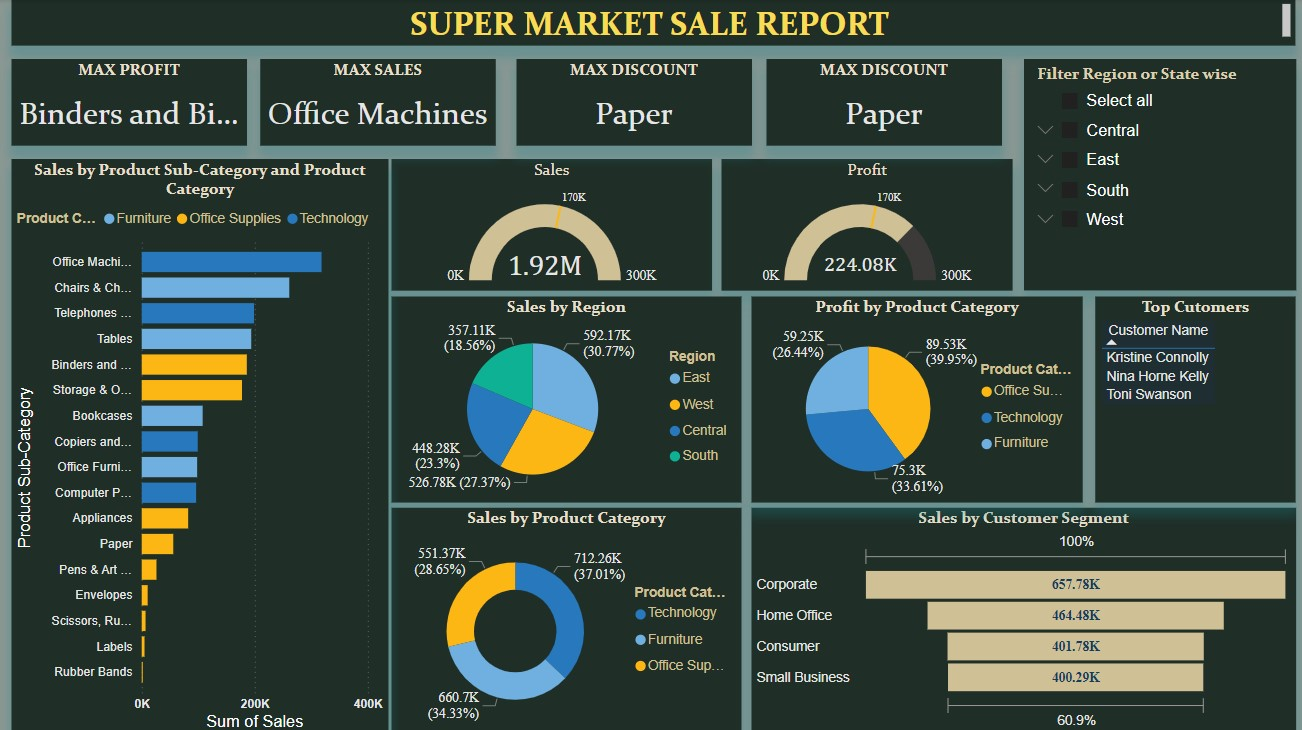

The dashboard page shown, as its layout file describes it:
{"tool":"powerbi","page":{"name":"report","canvas":[1280,720],"ordinal":0},"visuals":[{"type":"textbox","box":[12.2,0,1255.8,45.2],"z":0},{"type":"gauge","title":"Sales","fields":{"Y":["Orders.Sales"]},"box":[383.8,156.2,313.8,128.8],"z":1000},{"type":"gauge","title":"Profit","fields":{"Y":["Orders.Profit"]},"box":[706.2,156.2,285,128.8],"z":2000},{"type":"card","title":"MAX PROFIT","fields":{"Values":["Orders.Product Sub-Category"]},"box":[12.5,58.8,230,85],"z":3000},{"type":"card","title":"MAX SALES","fields":{"Values":["Orders.Product Sub-Category"]},"box":[255,58.8,230,85],"z":4000},{"type":"pieChart","title":"Sales by Region","fields":{"Category":["Orders.Region"],"Y":["Orders.Sales"]},"box":[383.8,291.2,342.5,201.2],"z":5000},{"type":"card","title":"MAX DISCOUNT","fields":{"Values":["Orders.Product Sub-Category"]},"box":[506.2,58.8,230,85],"z":6000},{"type":"card","title":"MAX DISCOUNT","fields":{"Values":["Orders.Product Sub-Category"]},"box":[751.2,58.8,230,85],"z":7000},{"type":"donutChart","title":"Sales by Product Category","fields":{"Y":["Orders.Sales"],"Category":["Orders.Product Category"]},"box":[383.8,497.5,342.5,222.5],"z":8000},{"type":"barChart","title":"Sales by Product Sub-Category and Product Category","fields":{"Category":["Orders.Product Sub-Category"],"Y":["Orders.Sales"],"Series":["Orders.Product Category"]},"box":[12.5,156.2,368.8,563.8],"z":9000},{"type":"funnel","title":"Sales by Customer Segment","fields":{"Category":["Orders.Customer Segment"],"Y":["Orders.Sales"]},"box":[736.2,497.5,532.5,222.5],"z":10000},{"type":"slicer","fields":{"Values":["Orders.Region","Orders.State or Province"]},"box":[1002.5,58.8,266.2,226.2],"z":11000},{"type":"tableEx","title":"Top  Cutomers","fields":{"Values":["Orders.Customer Name"]},"box":[1072.5,291.2,196.2,201.2],"z":12000},{"type":"pieChart","title":"Profit by Product Category","fields":{"Category":["Orders.Product Category"],"Y":["Orders.Profit"]},"box":[736.2,291.2,323.8,201.2],"z":13000}]}

Visuals, with their boxes in screenshot pixels (x1, y1, x2, y2), scaled from the page's 1280x720 canvas onto the 1302x730 screenshot:
textbox: x1=12 y1=0 x2=1290 y2=46
"Sales" gauge: x1=390 y1=158 x2=710 y2=289
"Profit" gauge: x1=718 y1=158 x2=1008 y2=289
"MAX PROFIT" card: x1=13 y1=60 x2=247 y2=146
"MAX SALES" card: x1=259 y1=60 x2=493 y2=146
"Sales by Region" pieChart: x1=390 y1=295 x2=739 y2=499
"MAX DISCOUNT" card: x1=515 y1=60 x2=749 y2=146
"MAX DISCOUNT" card: x1=764 y1=60 x2=998 y2=146
"Sales by Product Category" donutChart: x1=390 y1=504 x2=739 y2=729
"Sales by Product Sub-Category and Product Category" barChart: x1=13 y1=158 x2=388 y2=729
"Sales by Customer Segment" funnel: x1=749 y1=504 x2=1291 y2=729
slicer - Orders.Region x Orders.State or Province: x1=1020 y1=60 x2=1291 y2=289
"Top  Cutomers" tableEx: x1=1091 y1=295 x2=1291 y2=499
"Profit by Product Category" pieChart: x1=749 y1=295 x2=1078 y2=499
